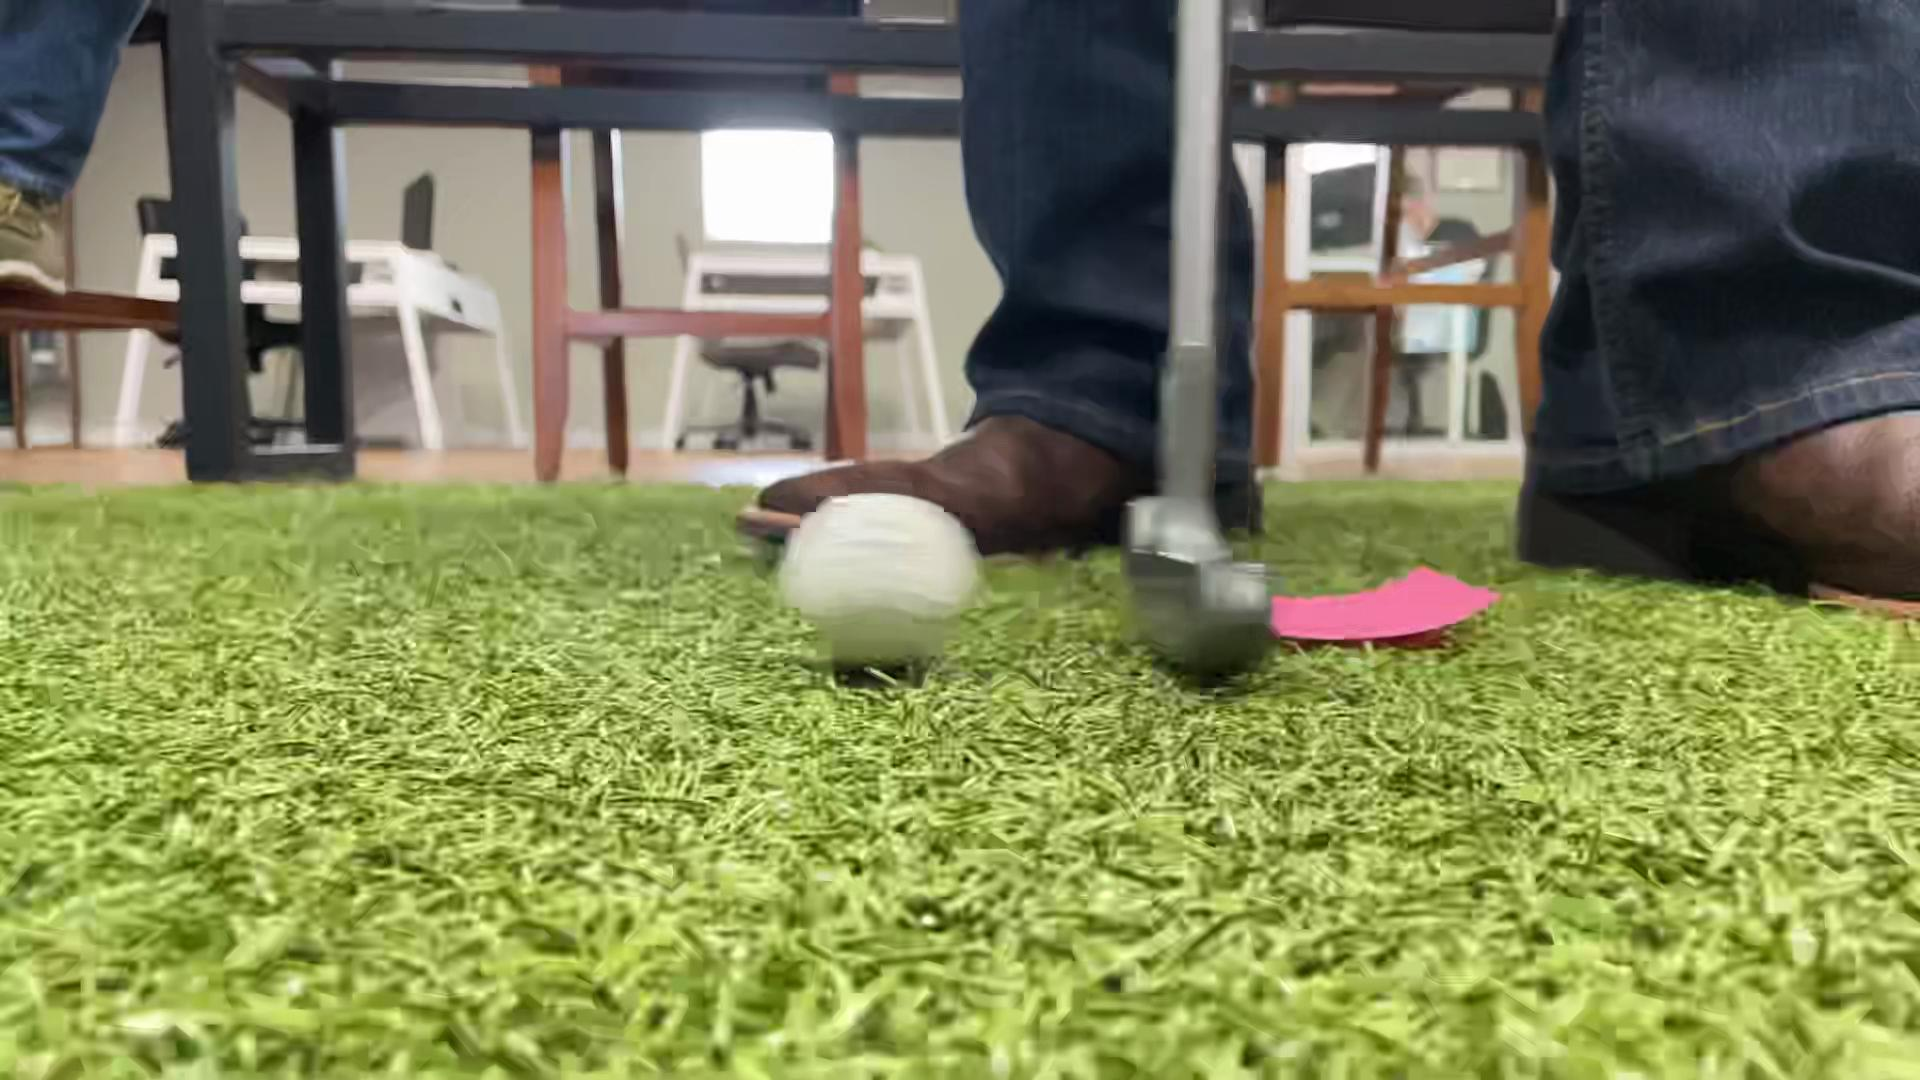golfball: (778, 494, 984, 663)
